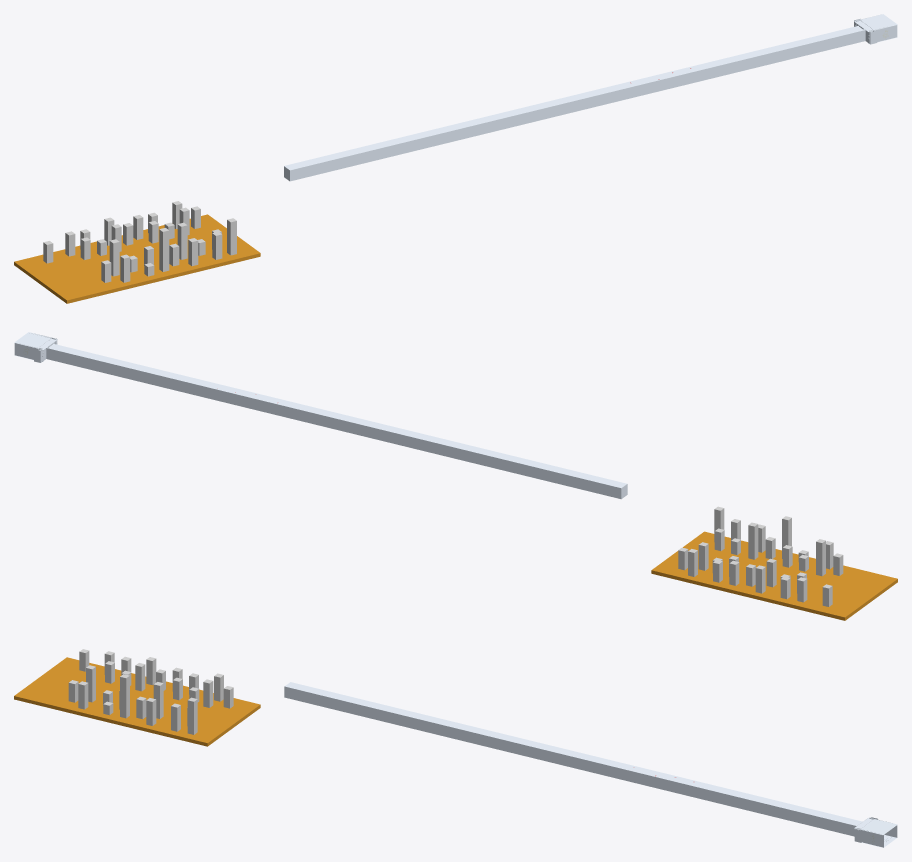
The picture shows the model from 3 angles, top to bottom: view 1: azimuth 30°, elevation 25°; view 2: azimuth 150°, elevation 25°; view 3: azimuth 330°, elevation 25°; orthographic projection.
Parts seen in each view (by area): view 1: Cube.009, Cube.038; view 2: Cube.009, Cube.038; view 3: Cube.009, Cube.038, Cube.057.
Boxes of the visible parts, x1,y1,x2,y2 form: Cube.009: (284, 25, 865, 181); Cube.038: (14, 214, 260, 303); Cube.009: (46, 343, 627, 499); Cube.038: (651, 531, 897, 620); Cube.009: (284, 682, 862, 836); Cube.038: (14, 657, 260, 746); Cube.057: (120, 674, 129, 718).
Size of the model in its own units: 1178 by 76.34 by 127.
